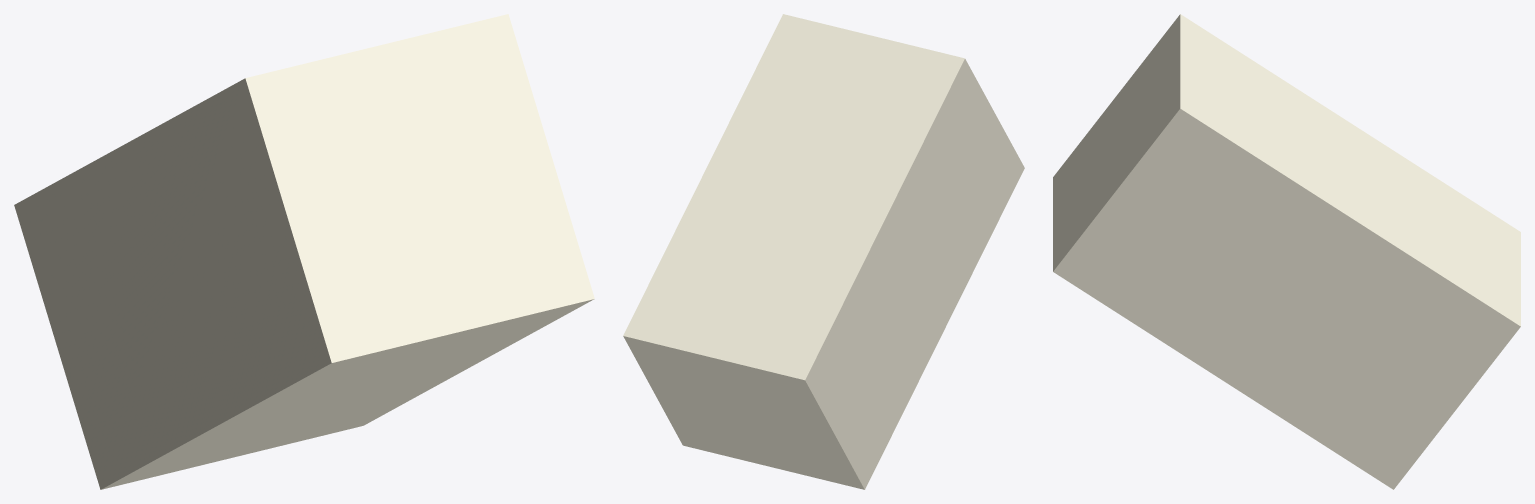
File: bird_withAnimation.fbx
3 views of the same model, side by side, from view 1: azimuth 30°, elevation 25°; view 2: azimuth 150°, elevation 25°; view 3: azimuth 270°, elevation 25° (orthographic). The views are drawn at different scales.
Visible parts, largest first — view 1: bird; view 2: bird; view 3: bird.
Boxes of the visible parts, box(x1,y1,x2,y2) form: bird: box(14, 14, 594, 489); bird: box(623, 14, 1024, 489); bird: box(1053, 14, 1520, 489).
Size of the model in its own units: 0.2796 by 0.5257 by 0.5845.
Materials: 1 (1 with a texture image).
